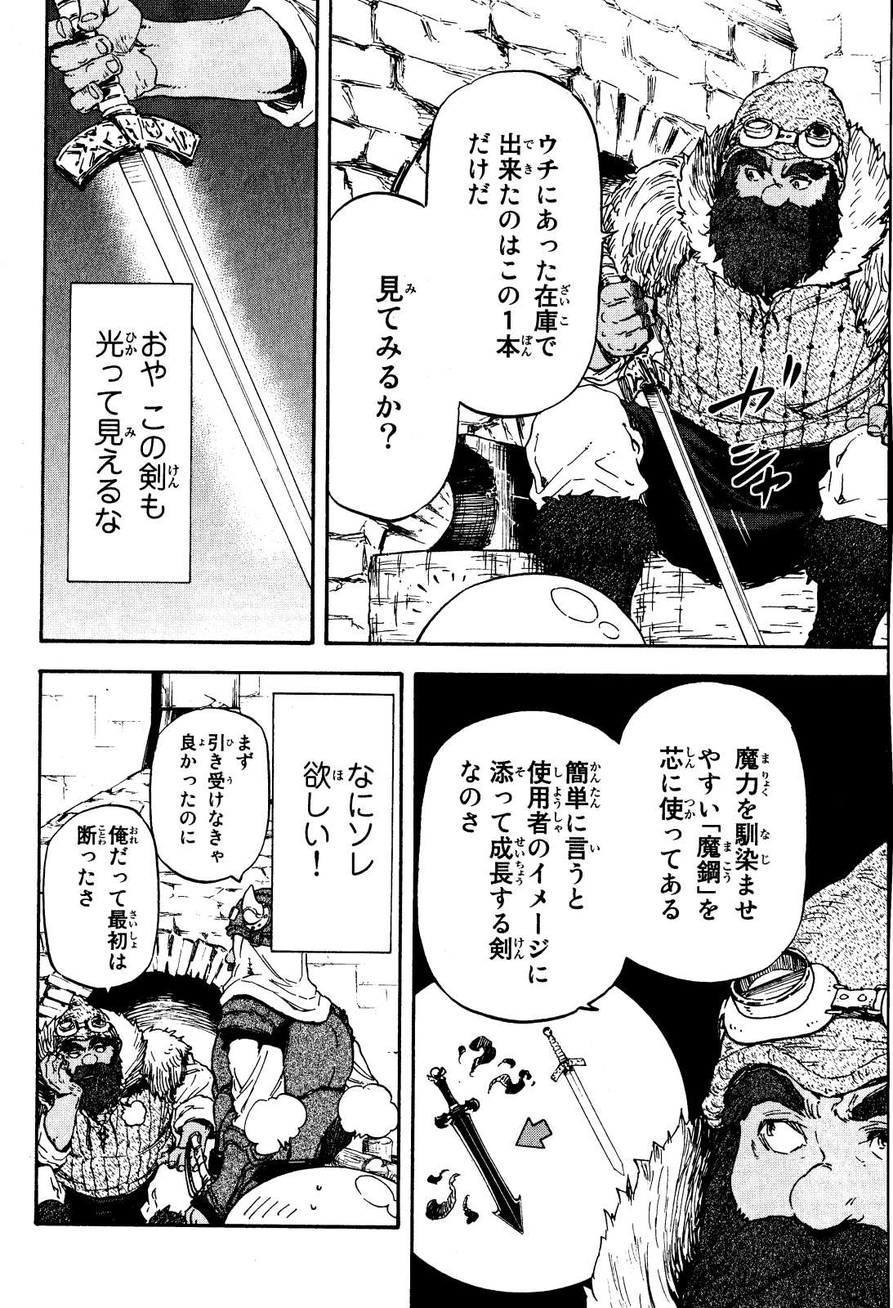bubbles: (419, 679, 811, 1028), (327, 66, 622, 527), (65, 275, 196, 589), (269, 689, 391, 957), (41, 796, 163, 998), (145, 705, 272, 892)
